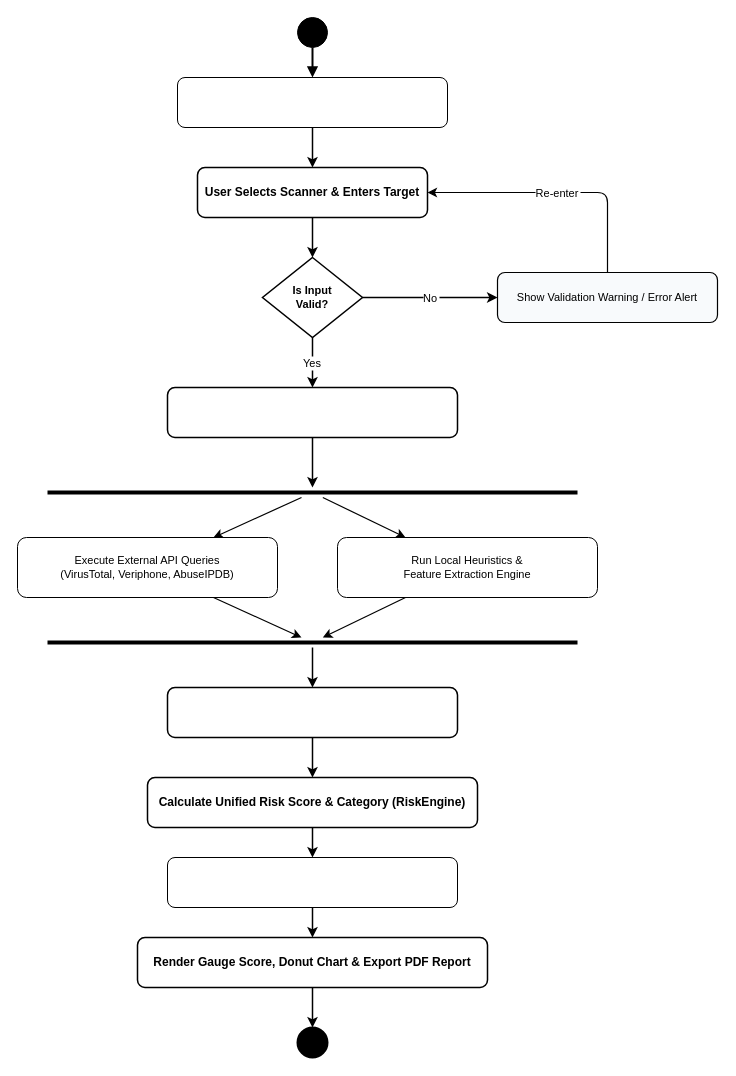
Some shapes in this 736 by 1076 pixel diagram are drawn without their labels. The centre of each missing label's shape, as x and y in pixels:
Dispatch Target to Scanner Module (modules/): point (312, 412)
Open CyberMind AI Dashboard: point (312, 102)
Persist Record in SQLite (scan_history): point (312, 882)
Predict Threat via ML Model (scikit-learn .pkl): point (312, 712)
